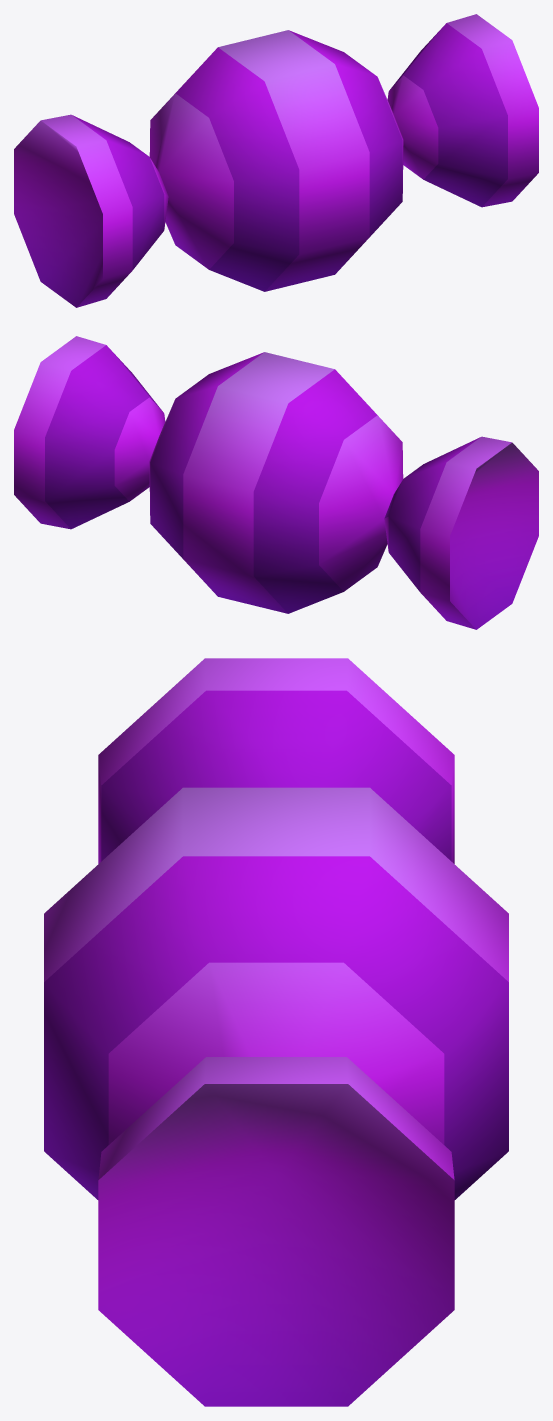
File: candy_purple_B.gltf
The picture shows the model from 3 angles, top to bottom: view 1: azimuth 30°, elevation 25°; view 2: azimuth 150°, elevation 25°; view 3: azimuth 270°, elevation 25°; orthographic projection. The views are drawn at different scales.
Visible parts, largest first — view 1: candy_purple_B; view 2: candy_purple_B; view 3: candy_purple_B.
Boxes of the visible parts, x1,y1,x2,y2 form: candy_purple_B: [14, 14, 538, 307]; candy_purple_B: [14, 336, 538, 629]; candy_purple_B: [44, 658, 508, 1406].
Bounding box in the file's own units: 0.65 × 0.3 × 0.3.
Materials: 1 (1 with a texture image).
